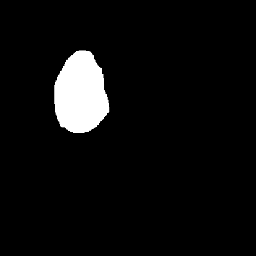mass: (56, 51, 101, 130)
